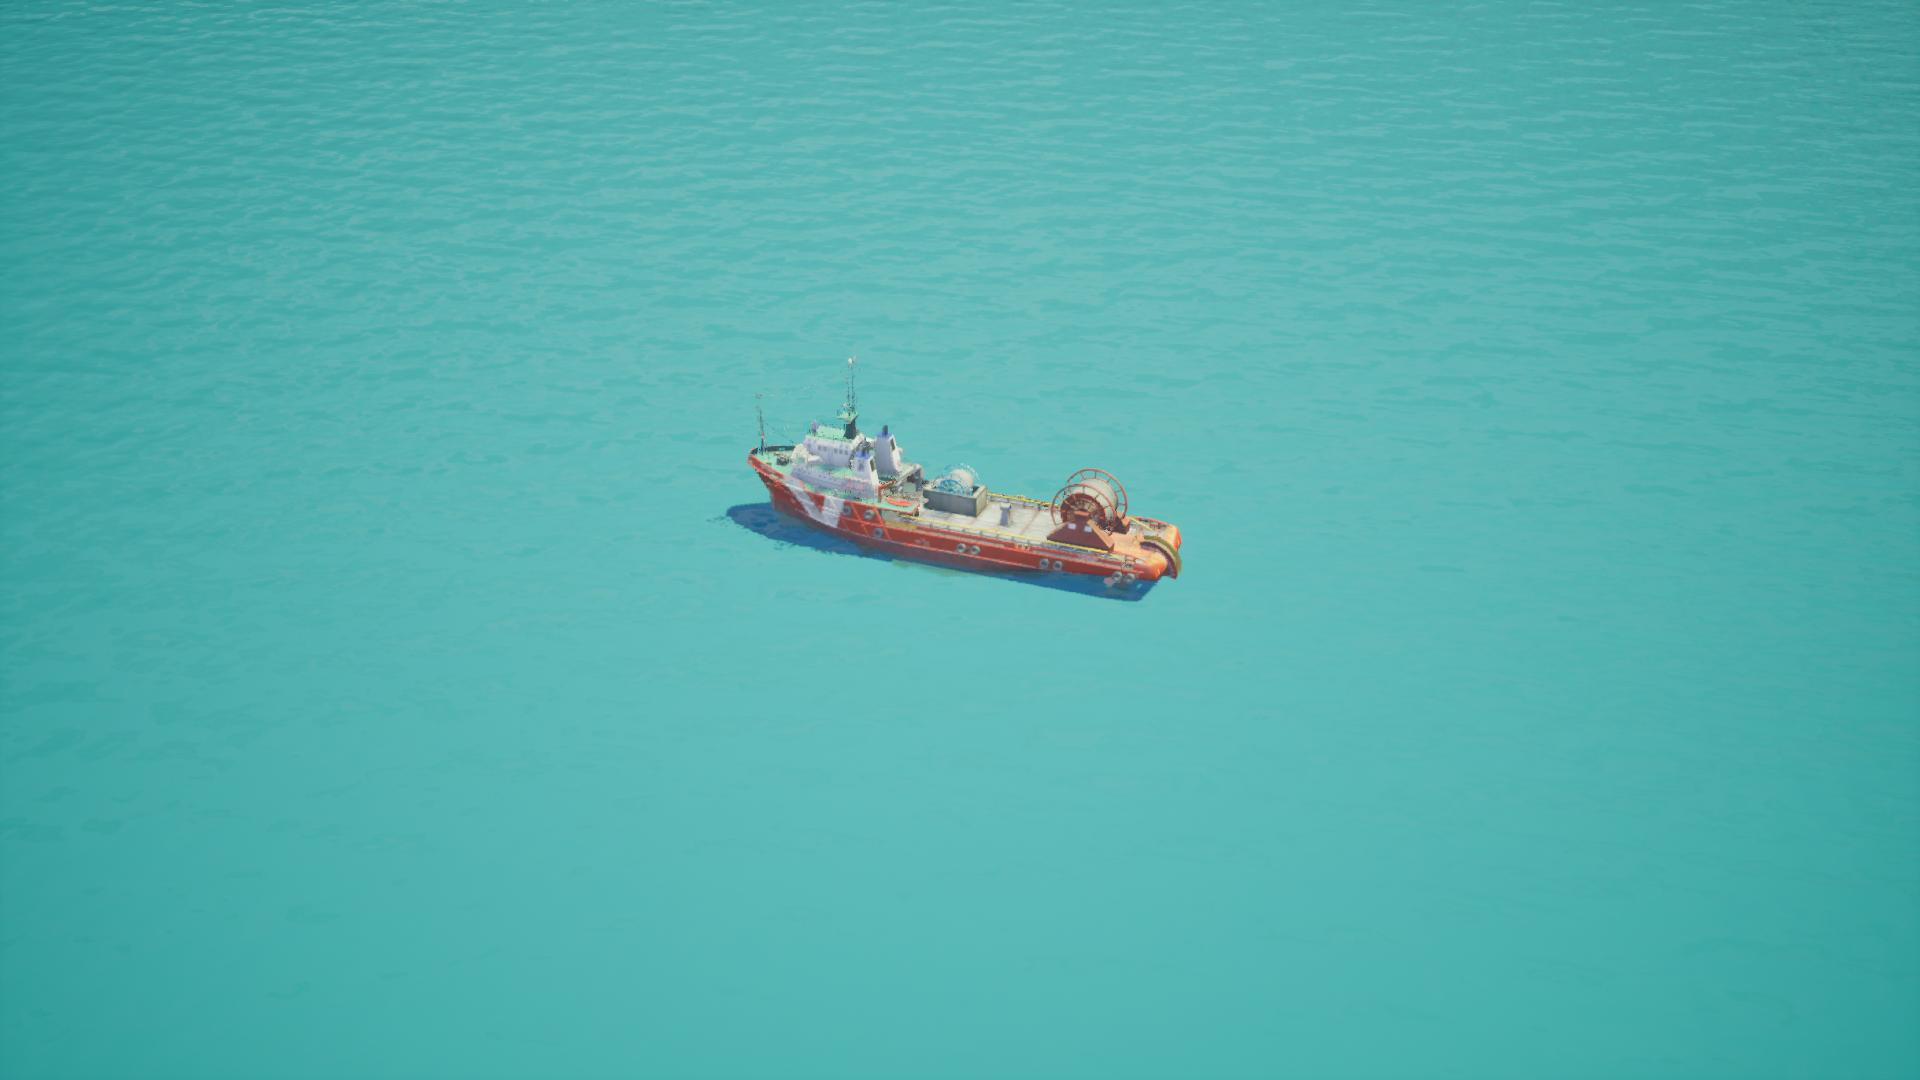Tug Boat: (725, 356, 1182, 603)
